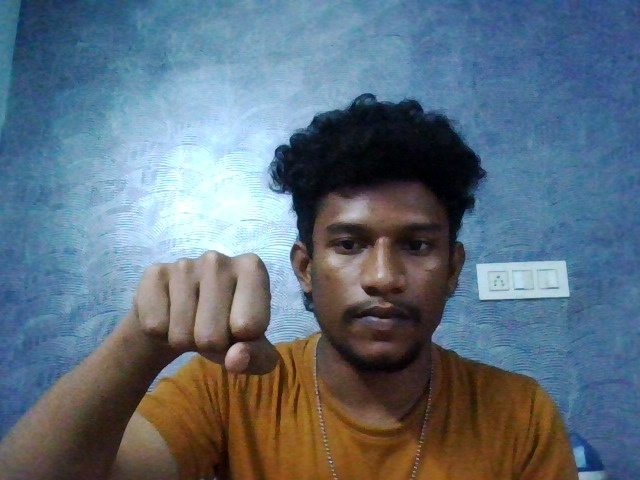yes: (119, 238, 294, 401)
